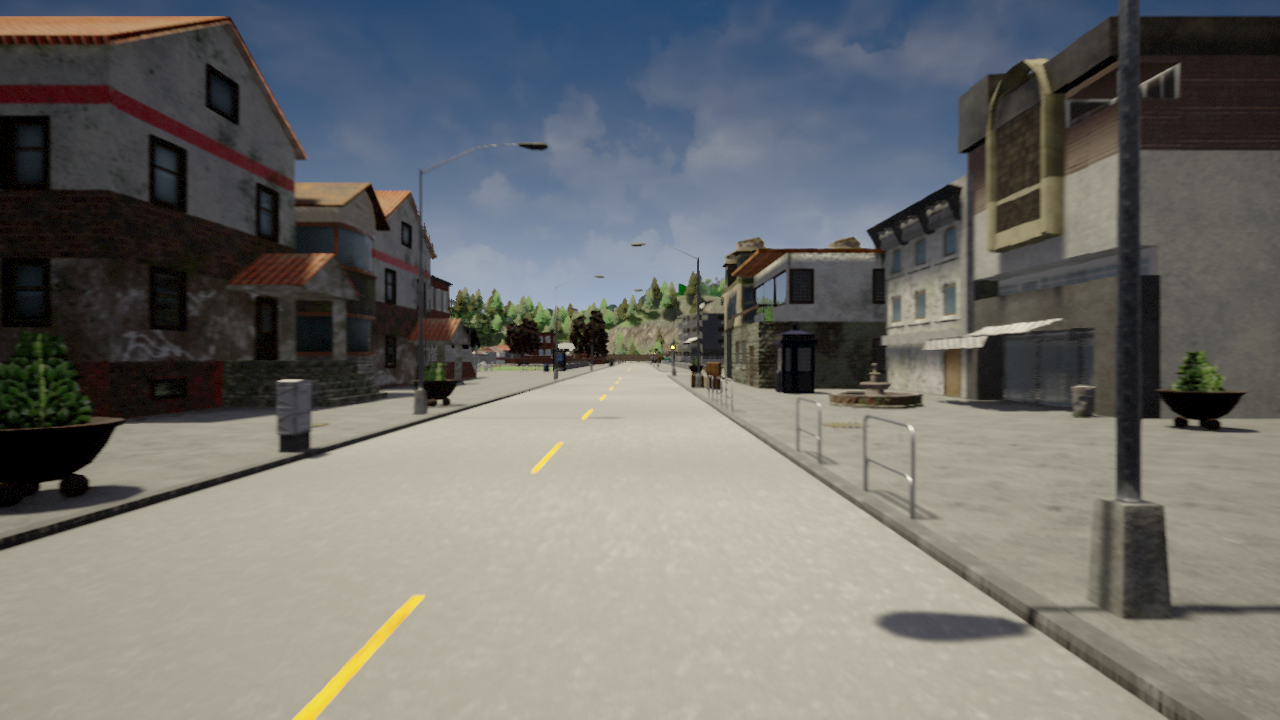yellow: (670, 341, 676, 356)
